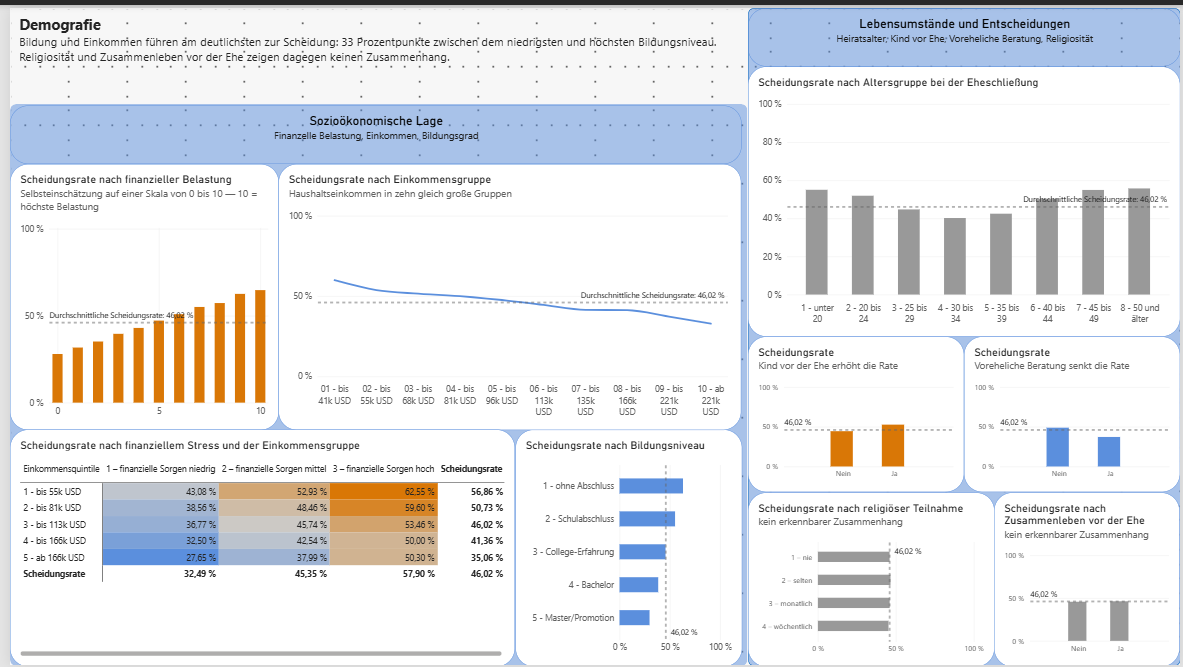

The page's visual inventory and layout, read from the dashboard file:
{"tool":"powerbi","page":{"name":"Demografie","canvas":[1920,1080],"ordinal":1},"visuals":[{"type":"shape","box":[1210.2,0,709.8,1079.7],"z":0},{"type":"shape","title":"Demografie","box":[0,158.6,1210.2,922.2],"z":1000},{"type":"clusteredColumnChart","title":"Scheidungsrate nach finanzieller Belastung","fields":{"Category":["Ehen.financial_stress_gruppiert"],"Y":["Ehen.Scheidungsquote"]},"box":[0,254.9,441.4,437],"z":2000},{"type":"clusteredBarChart","title":"Scheidungsrate nach Bildungsniveau","fields":{"Category":["Ehen.education_level_sorted"],"Y":["_Measures.Scheidungsquote"]},"box":[788.6,690.3,411.4,390.9],"z":3000},{"type":"clusteredBarChart","title":"Scheidungsrate nach religiöser Teilnahme","fields":{"Category":["Ehen.Religiosität"],"Y":["_Measures.Scheidungsquote"]},"box":[1210.5,794.5,405,285.8],"z":4000},{"type":"clusteredColumnChart","title":"Scheidungsrate","fields":{"Category":["Ehen.child_before_marriage_yesno"],"Y":["_Measures.Scheidungsquote"]},"box":[1210.2,539.3,354.9,255.6],"z":5000},{"type":"lineChart","title":"Scheidungsrate nach Einkommensgruppe","fields":{"Category":["Ehen.Einkommensgruppe"],"Y":["_Measures.Scheidungsquote"]},"box":[441.4,254.9,759.2,437],"z":6000},{"type":"pivotTable","title":"Scheidungsrate nach finanziellem Stress und der Einkommensgruppe","fields":{"Columns":["Ehen.financial_stress_high"],"Rows":["Ehen.Einkommensgruppe"],"Values":["_Measures.Scheidungsquote"]},"box":[0,690.3,788.6,390.9],"z":7000},{"type":"clusteredColumnChart","title":"Scheidungsrate","fields":{"Category":["Ehen.premarital_counseling_yesno"],"Y":["_Measures.Scheidungsquote"]},"box":[1565.1,539.3,354.9,255.6],"z":8000},{"type":"clusteredColumnChart","title":"Scheidungsrate nach Altersgruppe bei der Eheschließung","fields":{"Category":["Ehen.Altersgruppe_Eheschließung"],"Y":["_Measures.Scheidungsquote"]},"box":[1210.5,96,709.5,443.6],"z":9000},{"type":"textbox","title":"Sozioökonomische Lage","box":[0,158.9,1200.6,96],"z":10000},{"type":"clusteredColumnChart","title":"Scheidungsrate nach Zusammenleben vor der Ehe","fields":{"Category":["Ehen.cohabited_before_yesno"],"Y":["_Measures.Scheidungsquote"]},"box":[1615.4,794.5,304.6,285.8],"z":11000},{"type":"textbox","box":[0,0,1200.5,158.6],"z":12000},{"type":"textbox","title":"Lebensumstände und Entscheidungen","box":[1210.2,0,709.8,96],"z":13000}]}

Visuals, with their boxes in screenshot pixels (x1, y1, x2, y2), scaled from the page's 1920x1080 canvas onto the 1183x667 screenshot:
shape: x1=746 y1=0 x2=1182 y2=666
"Demografie" shape: x1=0 y1=98 x2=746 y2=666
"Scheidungsrate nach finanzieller Belastung" clusteredColumnChart: x1=0 y1=157 x2=272 y2=427
"Scheidungsrate nach Bildungsniveau" clusteredBarChart: x1=486 y1=426 x2=739 y2=666
"Scheidungsrate nach religiöser Teilnahme" clusteredBarChart: x1=746 y1=491 x2=995 y2=666
"Scheidungsrate" clusteredColumnChart: x1=746 y1=333 x2=964 y2=491
"Scheidungsrate nach Einkommensgruppe" lineChart: x1=272 y1=157 x2=740 y2=427
"Scheidungsrate nach finanziellem Stress und der Einkommensgruppe" pivotTable: x1=0 y1=426 x2=486 y2=666
"Scheidungsrate" clusteredColumnChart: x1=964 y1=333 x2=1182 y2=491
"Scheidungsrate nach Altersgruppe bei der Eheschließung" clusteredColumnChart: x1=746 y1=59 x2=1182 y2=333
"Sozioökonomische Lage" textbox: x1=0 y1=98 x2=740 y2=157
"Scheidungsrate nach Zusammenleben vor der Ehe" clusteredColumnChart: x1=995 y1=491 x2=1182 y2=666
textbox: x1=0 y1=0 x2=740 y2=98
"Lebensumstände und Entscheidungen" textbox: x1=746 y1=0 x2=1182 y2=59
